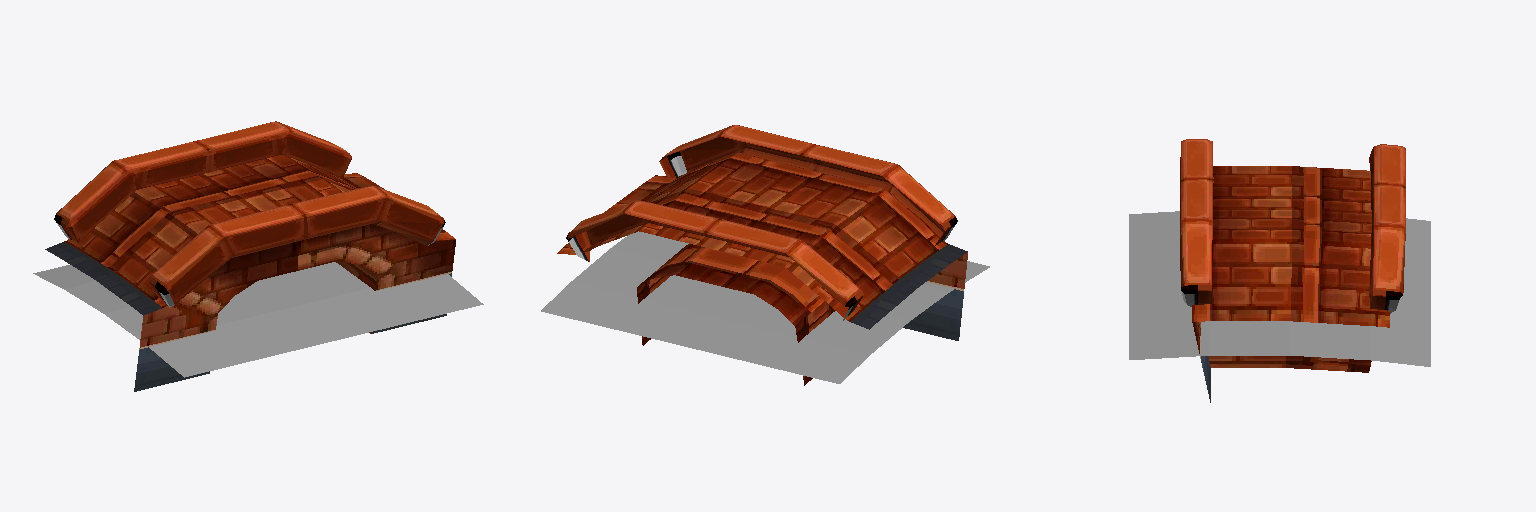
3 renders of one model, left to right at view 1: azimuth 30°, elevation 25°; view 2: azimuth 150°, elevation 25°; view 3: azimuth 270°, elevation 25°, orthographic.
Parts seen in each view (by area): view 1: vsn_mesh_0__mesh_0_.003, vsn_mesh_1__mesh_1_.003; view 2: vsn_mesh_0__mesh_0_.003, vsn_mesh_1__mesh_1_.003; view 3: vsn_mesh_0__mesh_0_.003, vsn_mesh_1__mesh_1_.003.
Boxes of the visible parts, <box> form: vsn_mesh_0__mesh_0_.003: <box>45,121,455,391</box>; vsn_mesh_1__mesh_1_.003: <box>33,262,483,377</box>; vsn_mesh_0__mesh_0_.003: <box>557,125,967,385</box>; vsn_mesh_1__mesh_1_.003: <box>541,231,989,383</box>; vsn_mesh_0__mesh_0_.003: <box>1180,139,1405,402</box>; vsn_mesh_1__mesh_1_.003: <box>1129,211,1430,366</box>.
Size of the model in its own units: 138 by 65.36 by 116.
2 materials, 1 textured.